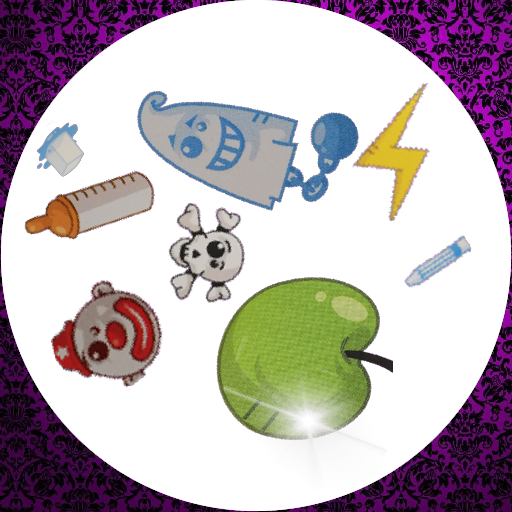apple_icon: (202, 254, 393, 445)
bottle_icon: (21, 138, 159, 276)
clown_icon: (51, 278, 163, 390)
cube_icon: (32, 121, 96, 185)
ghost_icon: (127, 26, 359, 258)
lightning_icon: (332, 80, 473, 221)
pen_icon: (400, 226, 474, 300)
skull_icon: (151, 200, 265, 314)
